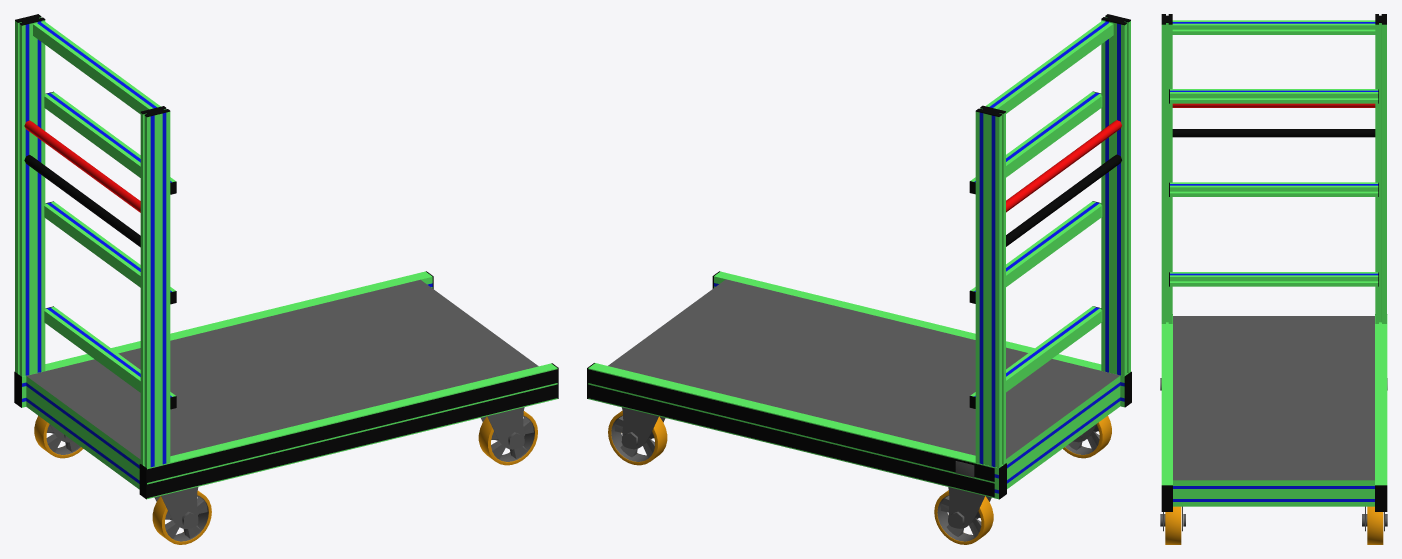
Rendered from RC06 Speisestransport.FBX.
3 renders of one model, left to right at view 1: azimuth 30°, elevation 25°; view 2: azimuth 150°, elevation 25°; view 3: azimuth 270°, elevation 25°, orthographic. The views are drawn at different scales.
Parts seen in each view (by area): view 1: Trolly_11; view 2: Trolly_11; view 3: Trolly_11.
Boxes of the visible parts, box(x1,y1,x2,y2) form: Trolly_11: box(14, 14, 558, 544); Trolly_11: box(587, 14, 1131, 544); Trolly_11: box(1160, 14, 1387, 544).
Bounding box in the file's own units: 13.95 × 14.22 × 7.82.
